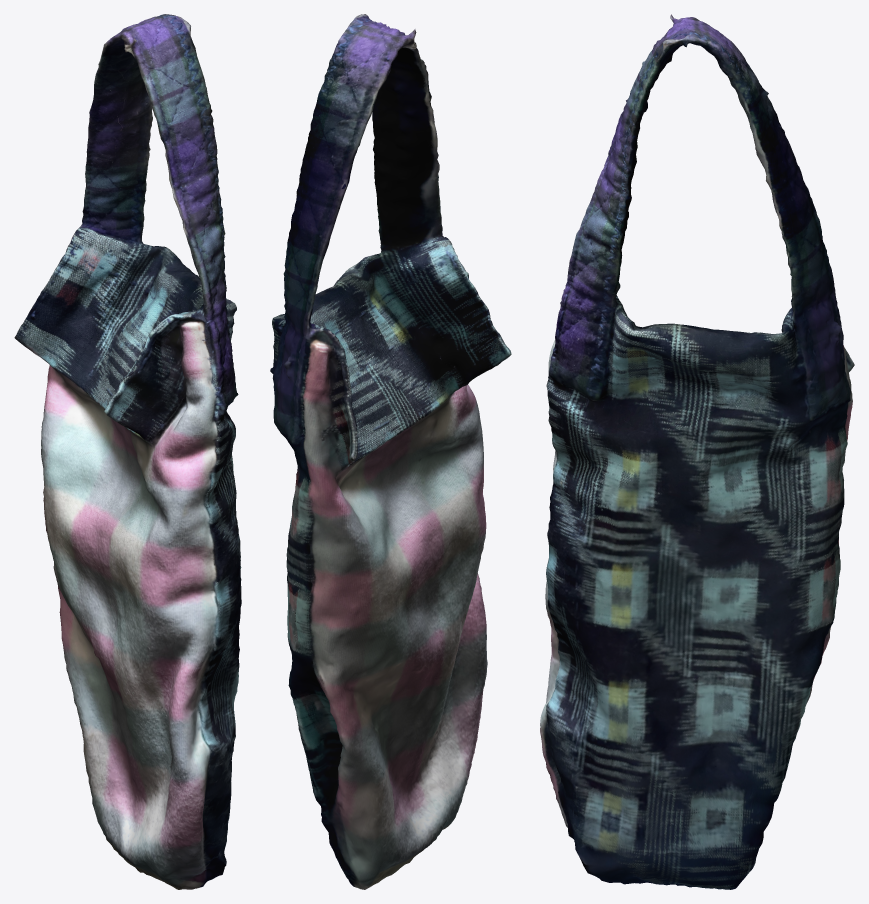
File: KendamaBag.fbx
The picture shows the model from 3 angles, left to right: view 1: azimuth 30°, elevation 25°; view 2: azimuth 150°, elevation 25°; view 3: azimuth 270°, elevation 25°; orthographic projection. The views are drawn at different scales.
Parts seen in each view (by area): view 1: textured; view 2: textured; view 3: textured.
Boxes of the visible parts, x1,y1,x2,y2 form: textured: [14, 14, 241, 889]; textured: [270, 14, 511, 889]; textured: [540, 14, 854, 889].
Size of the model in its own units: 0.0708 by 0.3642 by 0.1199.
1 material, 1 textured.
